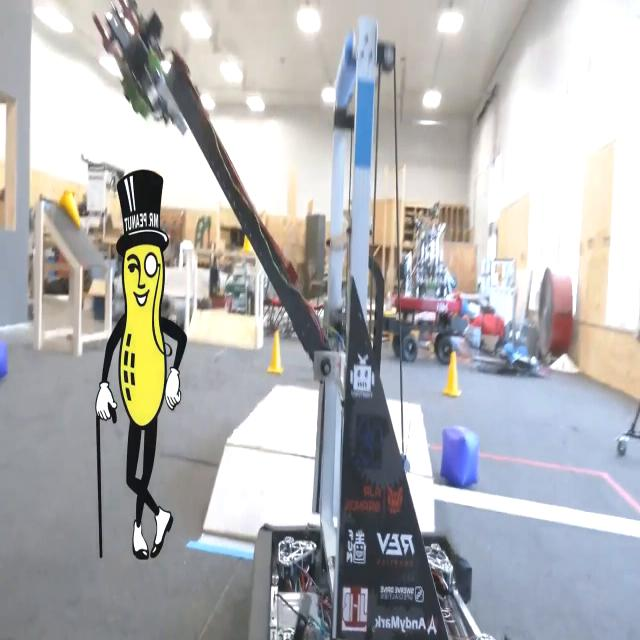frc_cone: (237, 206, 261, 266), (61, 179, 84, 235), (266, 326, 287, 380), (446, 352, 462, 402)
frc_cube: (441, 425, 484, 489), (0, 327, 14, 399)
